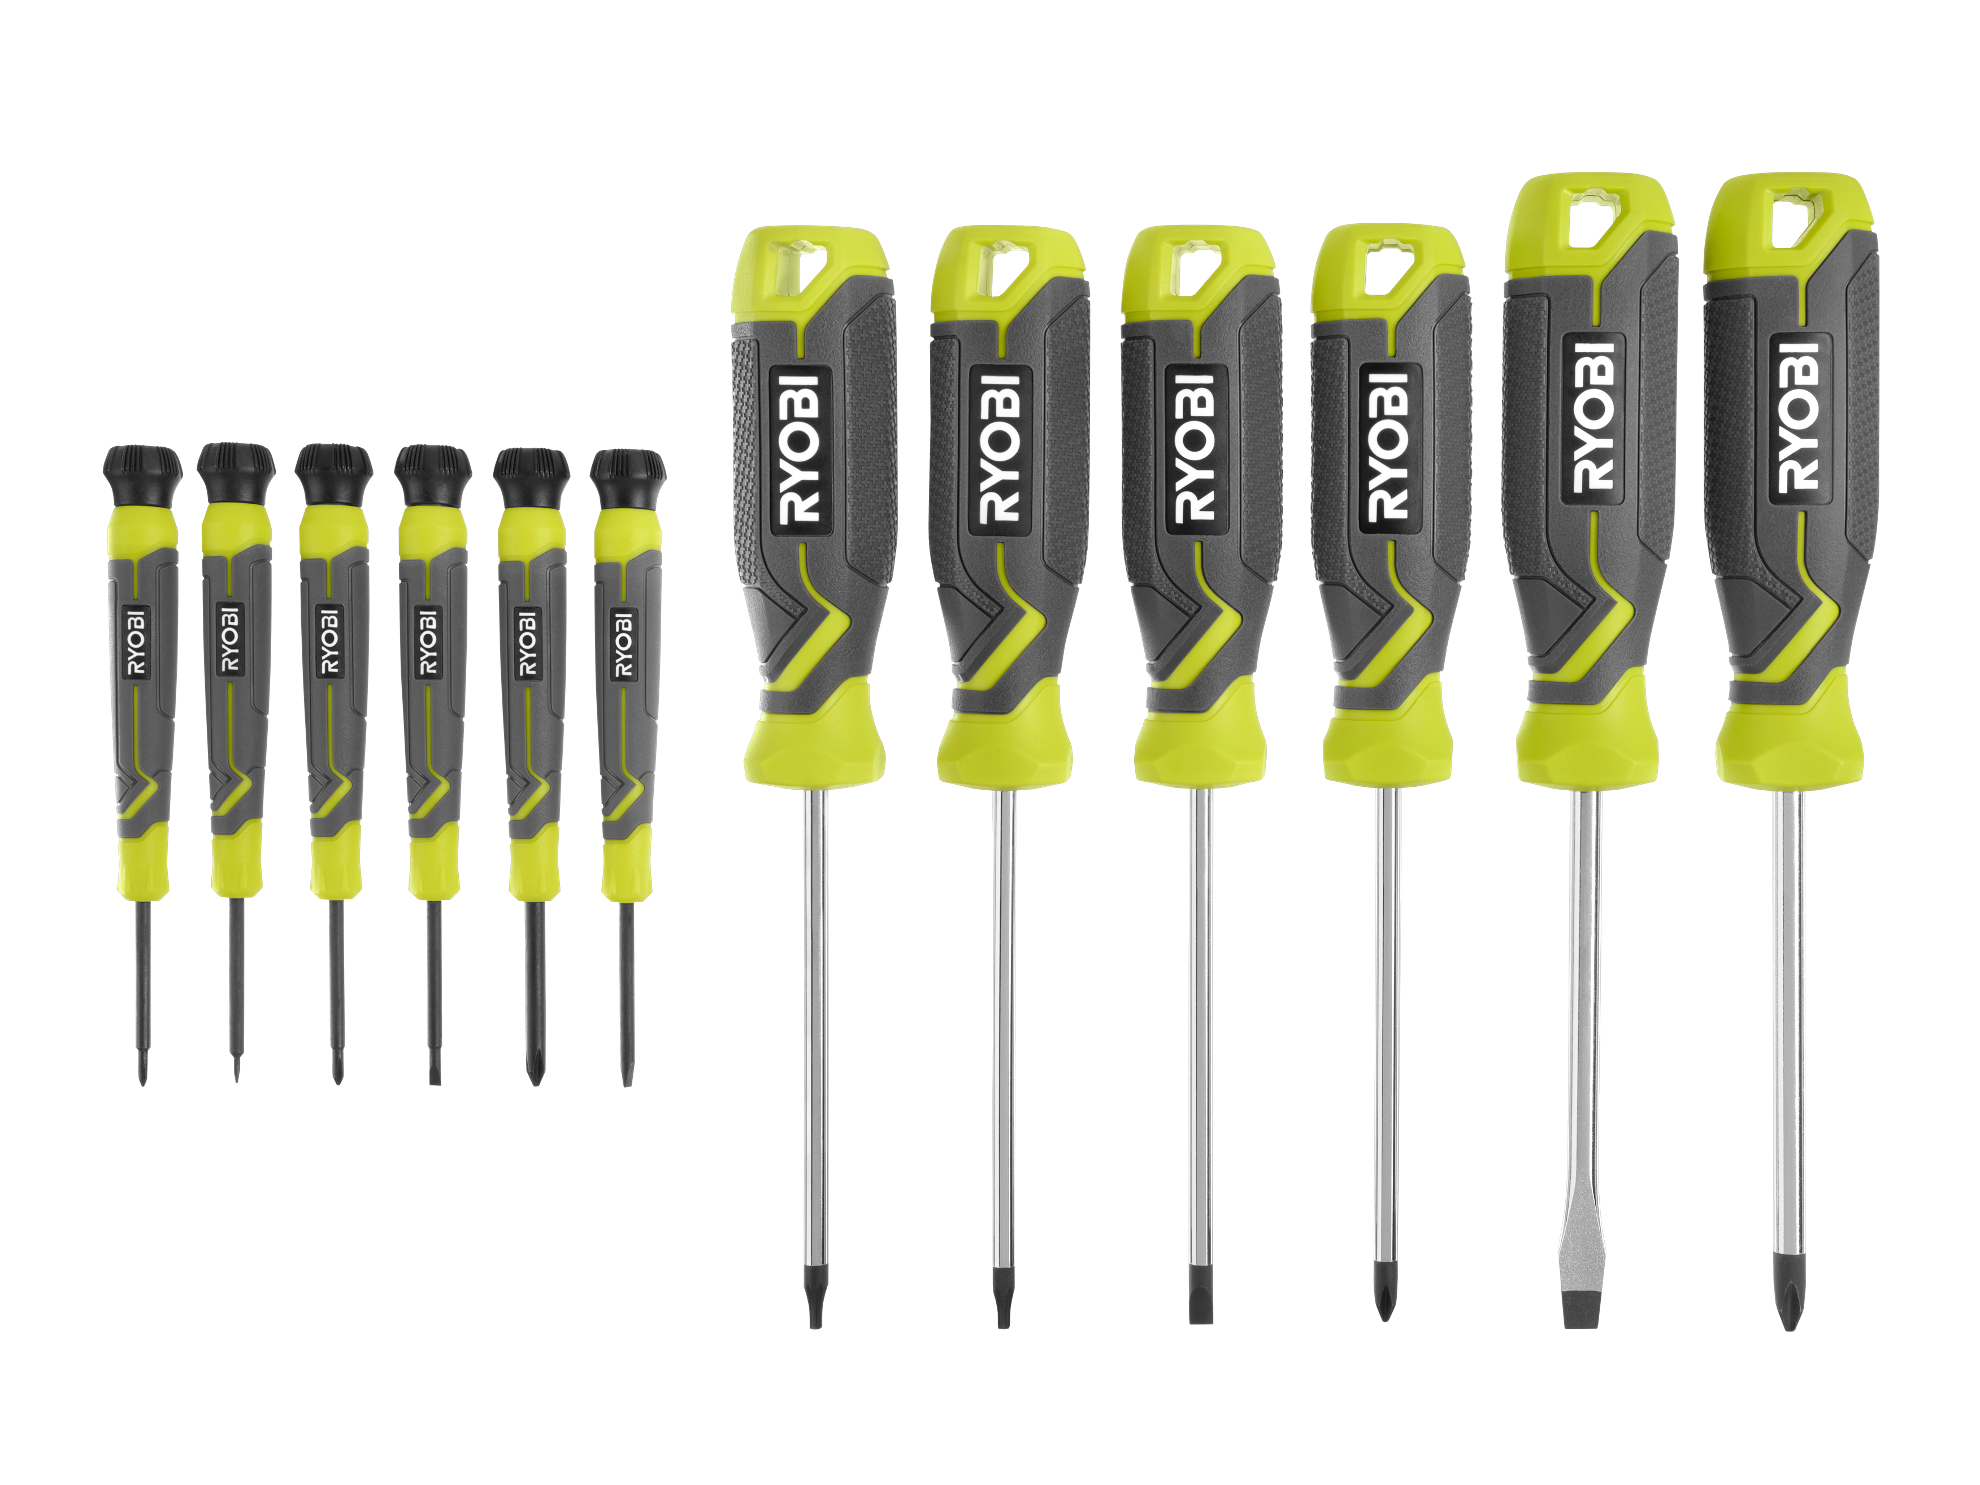screwdriver: (1494, 170, 1681, 1331), (1699, 170, 1883, 1335), (1116, 222, 1294, 1331), (918, 222, 1094, 1334), (728, 225, 903, 1331), (1310, 215, 1475, 1324), (190, 434, 279, 1090), (288, 441, 377, 1086), (486, 451, 574, 1090), (387, 445, 472, 1093), (101, 446, 187, 1089), (588, 445, 670, 1083)
